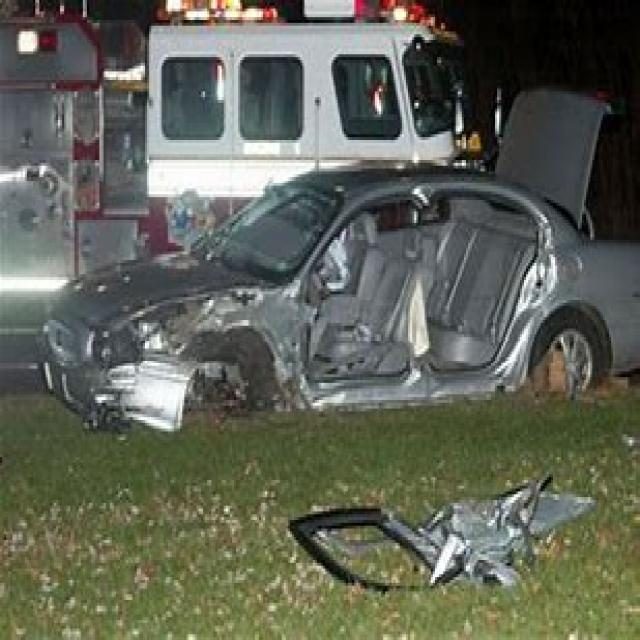Accident: (22, 84, 640, 601)
